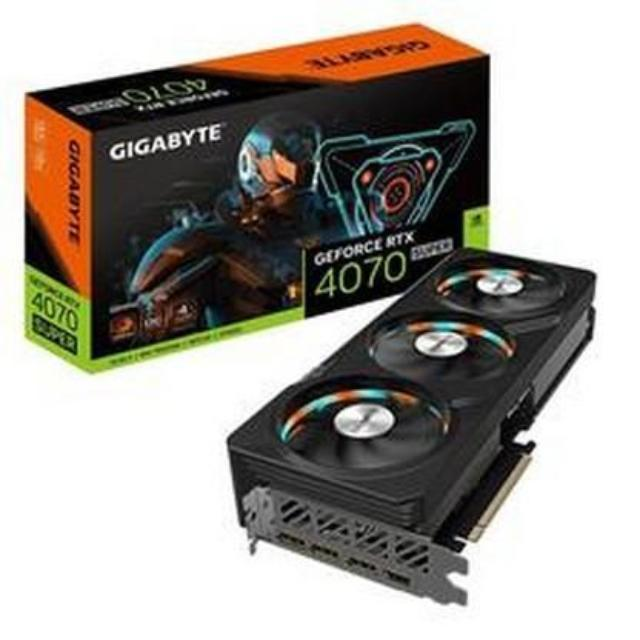GPU: (223, 244, 597, 607)
